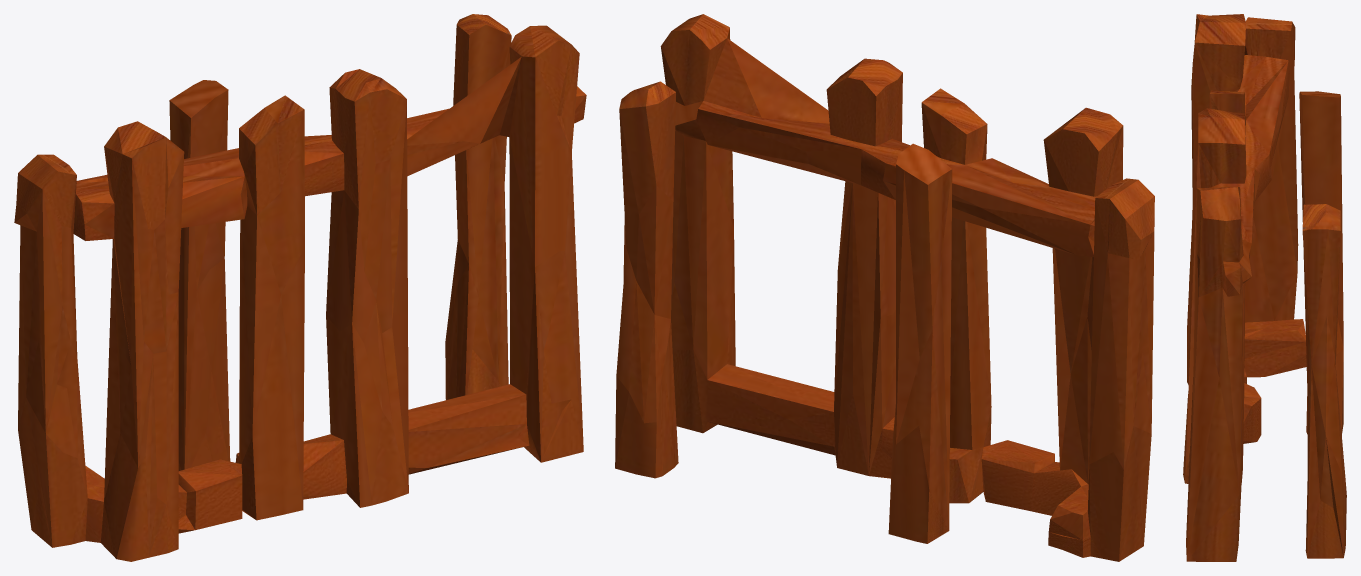
Rendered from fence.glb.
The picture shows the model from 3 angles, left to right: view 1: azimuth 30°, elevation 25°; view 2: azimuth 150°, elevation 25°; view 3: azimuth 270°, elevation 25°; orthographic projection. The views are drawn at different scales.
Size of the model in its own units: 1.89 by 1.38 by 0.5613.
1 material, 1 textured.
